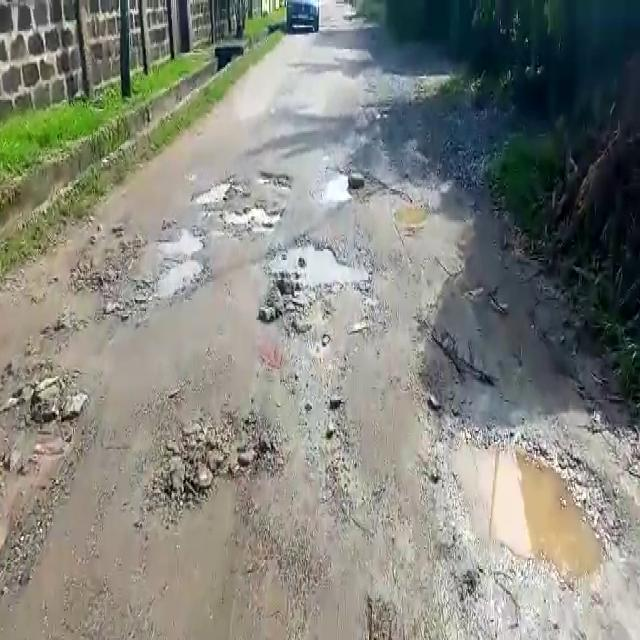Pothole: (446, 426, 613, 584), (153, 409, 282, 503), (271, 234, 369, 278), (153, 260, 208, 302), (221, 202, 282, 231), (150, 223, 204, 253), (319, 171, 364, 206), (392, 199, 435, 228), (194, 177, 233, 205)
